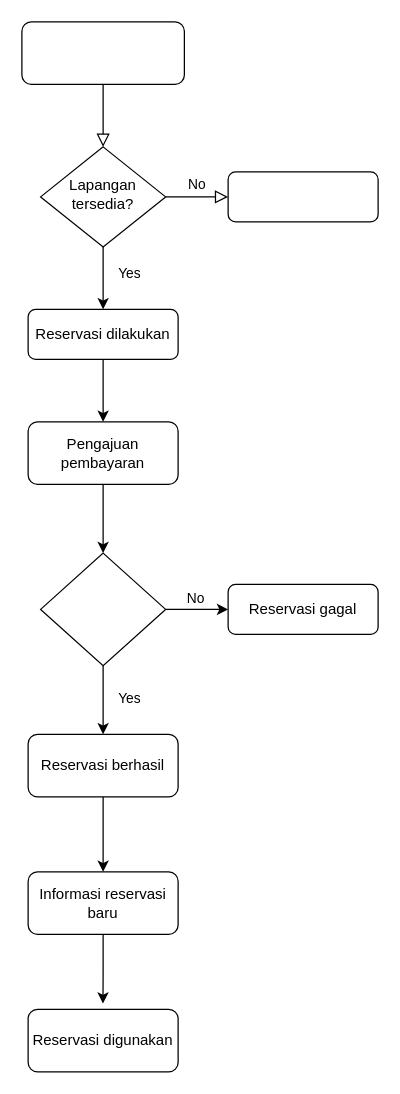
This 400x1094 diagram has some shape labels left out. Each missing label, with the box of its shape:
Pembayaran selesai?: (39, 552, 166, 666)
Pemeriksaan ketersediaan lapangan: (21, 21, 184, 84)
Tidak bisa dipesan: (227, 171, 378, 222)
